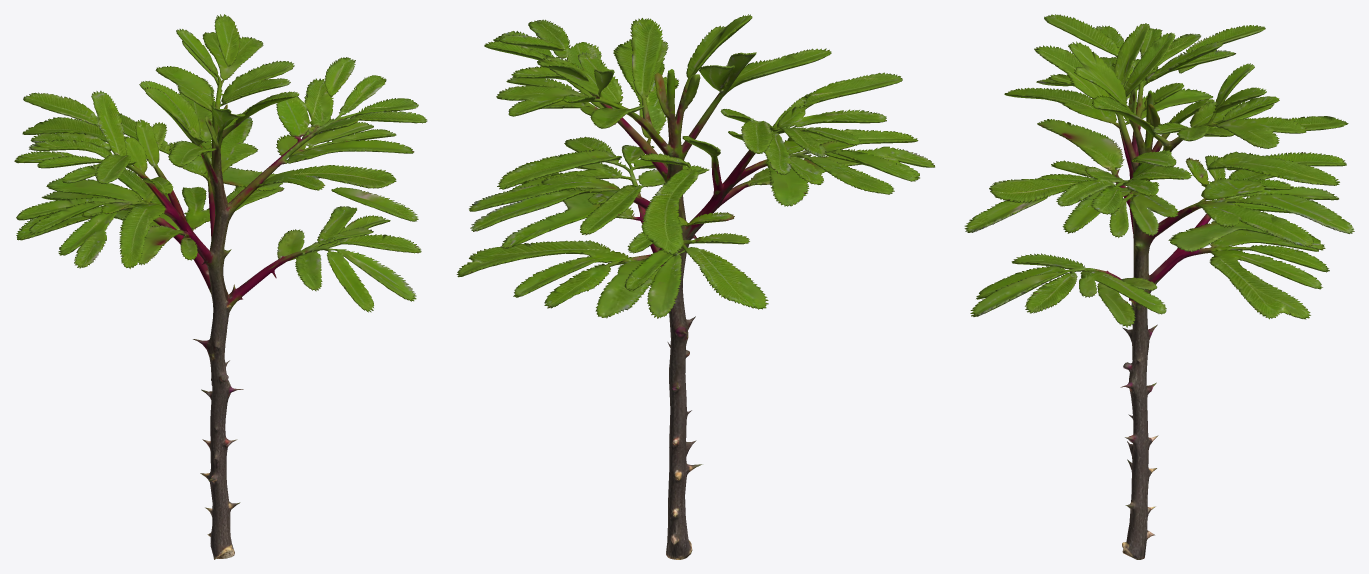
3 views of the same model, side by side, from view 1: azimuth 30°, elevation 25°; view 2: azimuth 150°, elevation 25°; view 3: azimuth 270°, elevation 25° (orthographic). The views are drawn at different scales.
Parts seen in each view (by area): view 1: node_0; view 2: node_0; view 3: node_0.
Part boxes in pixels (x1,y1,x2,y2): node_0: (14, 14, 427, 559); node_0: (456, 14, 934, 559); node_0: (964, 14, 1354, 559).
Bounding box in the file's own units: 0.8782 × 1.05 × 0.7464.
Materials: 1 (1 with a texture image).
